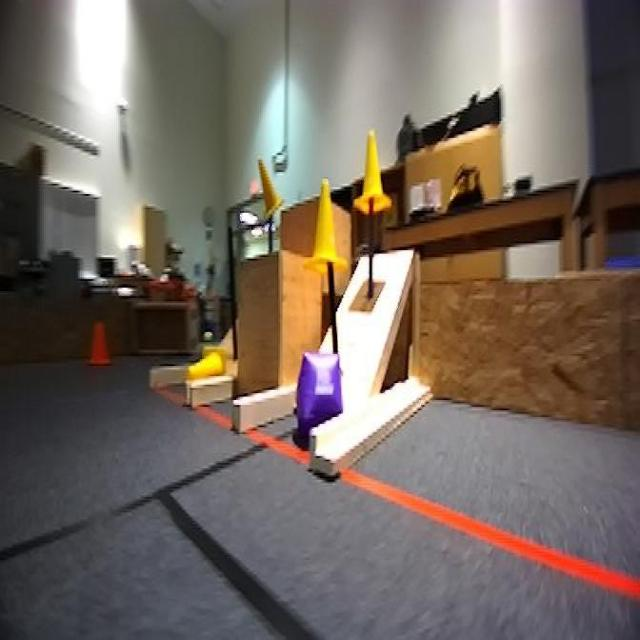frc_cone: (302, 177, 348, 279), (353, 130, 392, 214), (187, 342, 230, 388), (257, 156, 284, 220)
frc_cube: (292, 352, 345, 438)
